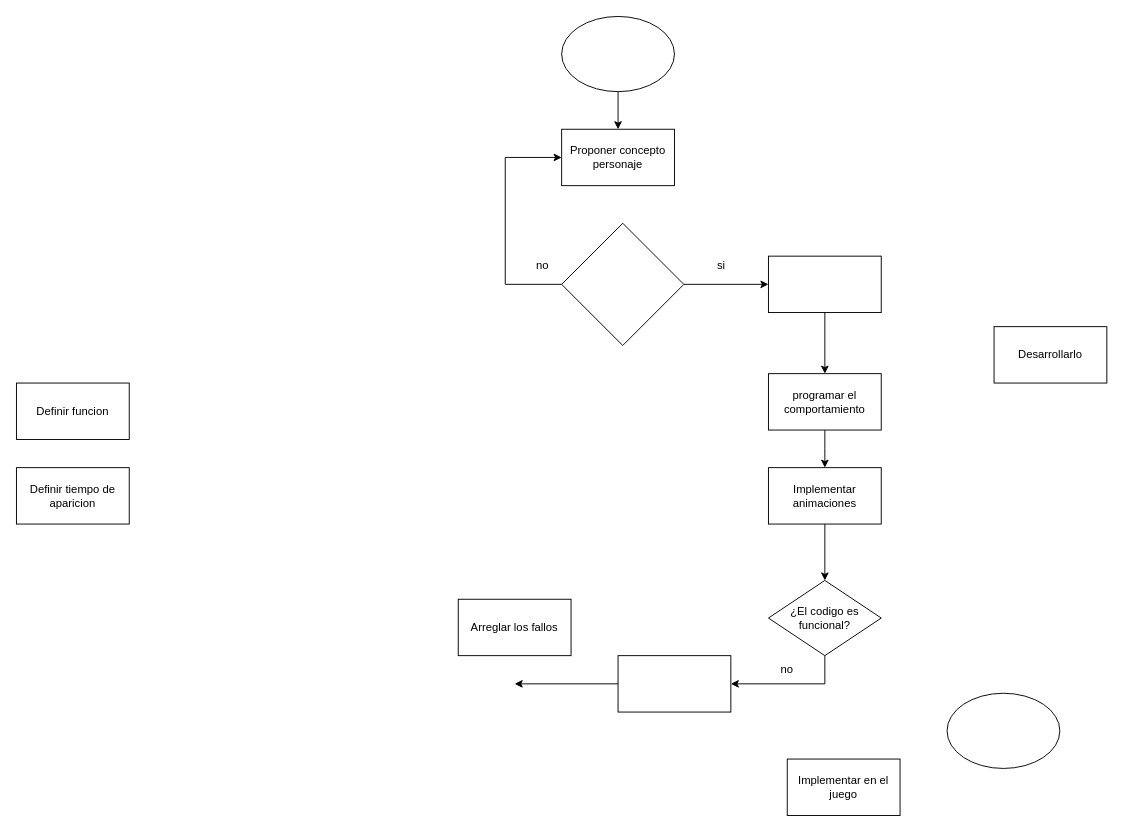
Some shapes in this 1123 by 832 pixel diagram are drawn without their labels. The centre of each missing label's shape, as x and y in pixels:
"Analizar fallos" goes at (x=674, y=683).
"Diseño del personaje" goes at (x=824, y=284).
"El concepto es aprobado?" goes at (x=622, y=283).
"fin" goes at (x=1003, y=730).
"Inicio" goes at (x=617, y=54).
